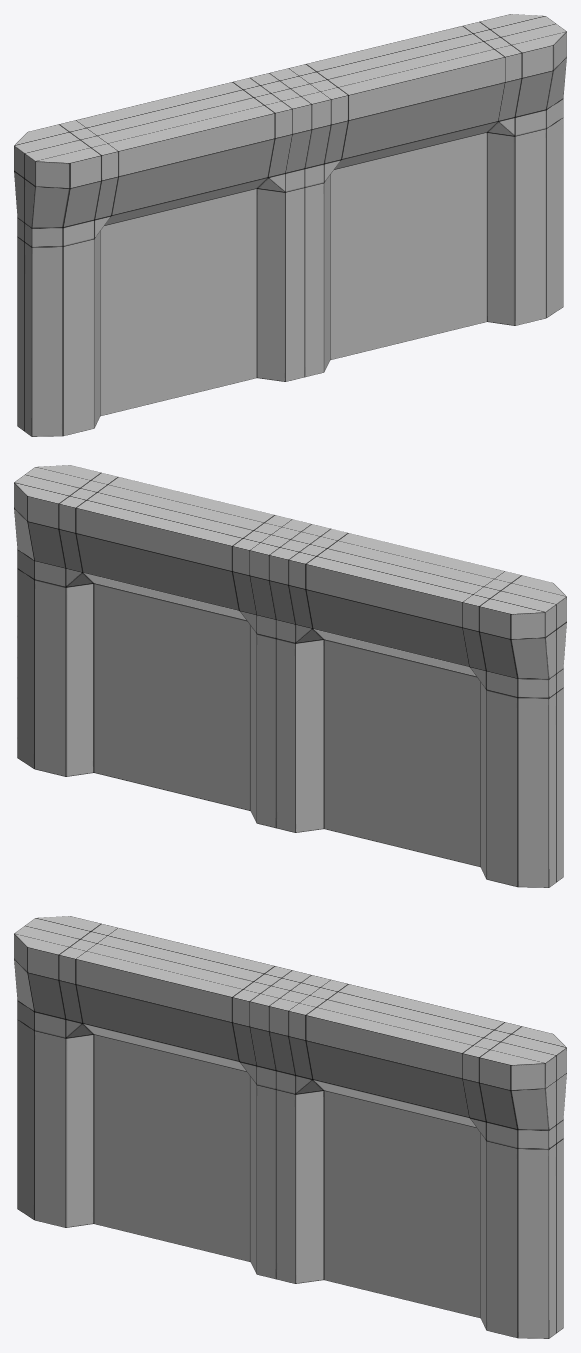
The model's file is wall02.obj.
3 renders of one model, top to bottom at view 1: azimuth 30°, elevation 25°; view 2: azimuth 150°, elevation 25°; view 3: azimuth 330°, elevation 25°, orthographic.
Visible parts, largest first — view 1: Cube; view 2: Cube; view 3: Cube.
Part boxes in pixels (left/top/right/bottom): Cube: left=14, top=14, right=566, bottom=436; Cube: left=14, top=465, right=566, bottom=887; Cube: left=14, top=916, right=566, bottom=1338.
Bounding box in the file's own units: 44 × 22 × 6.11.
